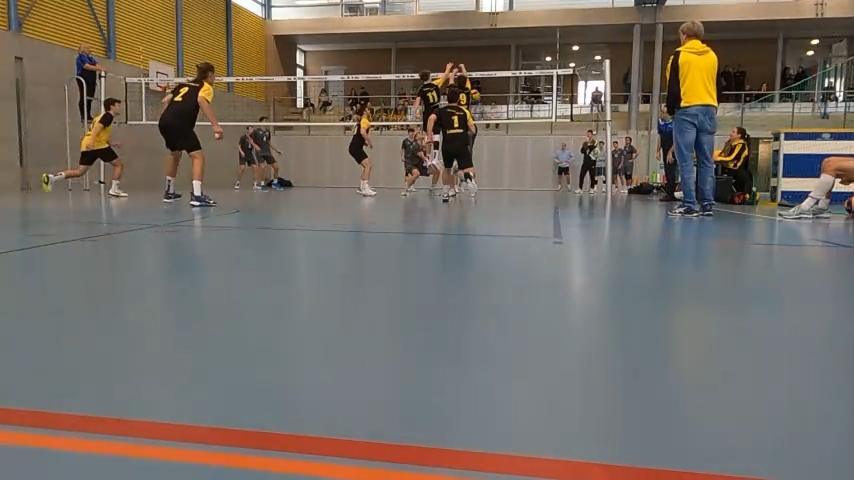Block: (407, 64, 444, 169), (441, 55, 478, 147)
Player: (158, 62, 222, 206), (42, 98, 127, 196), (428, 87, 476, 202), (348, 102, 375, 196), (251, 116, 281, 189), (401, 127, 429, 195), (234, 126, 263, 189), (454, 64, 472, 112)
ball: (469, 85, 480, 99)
